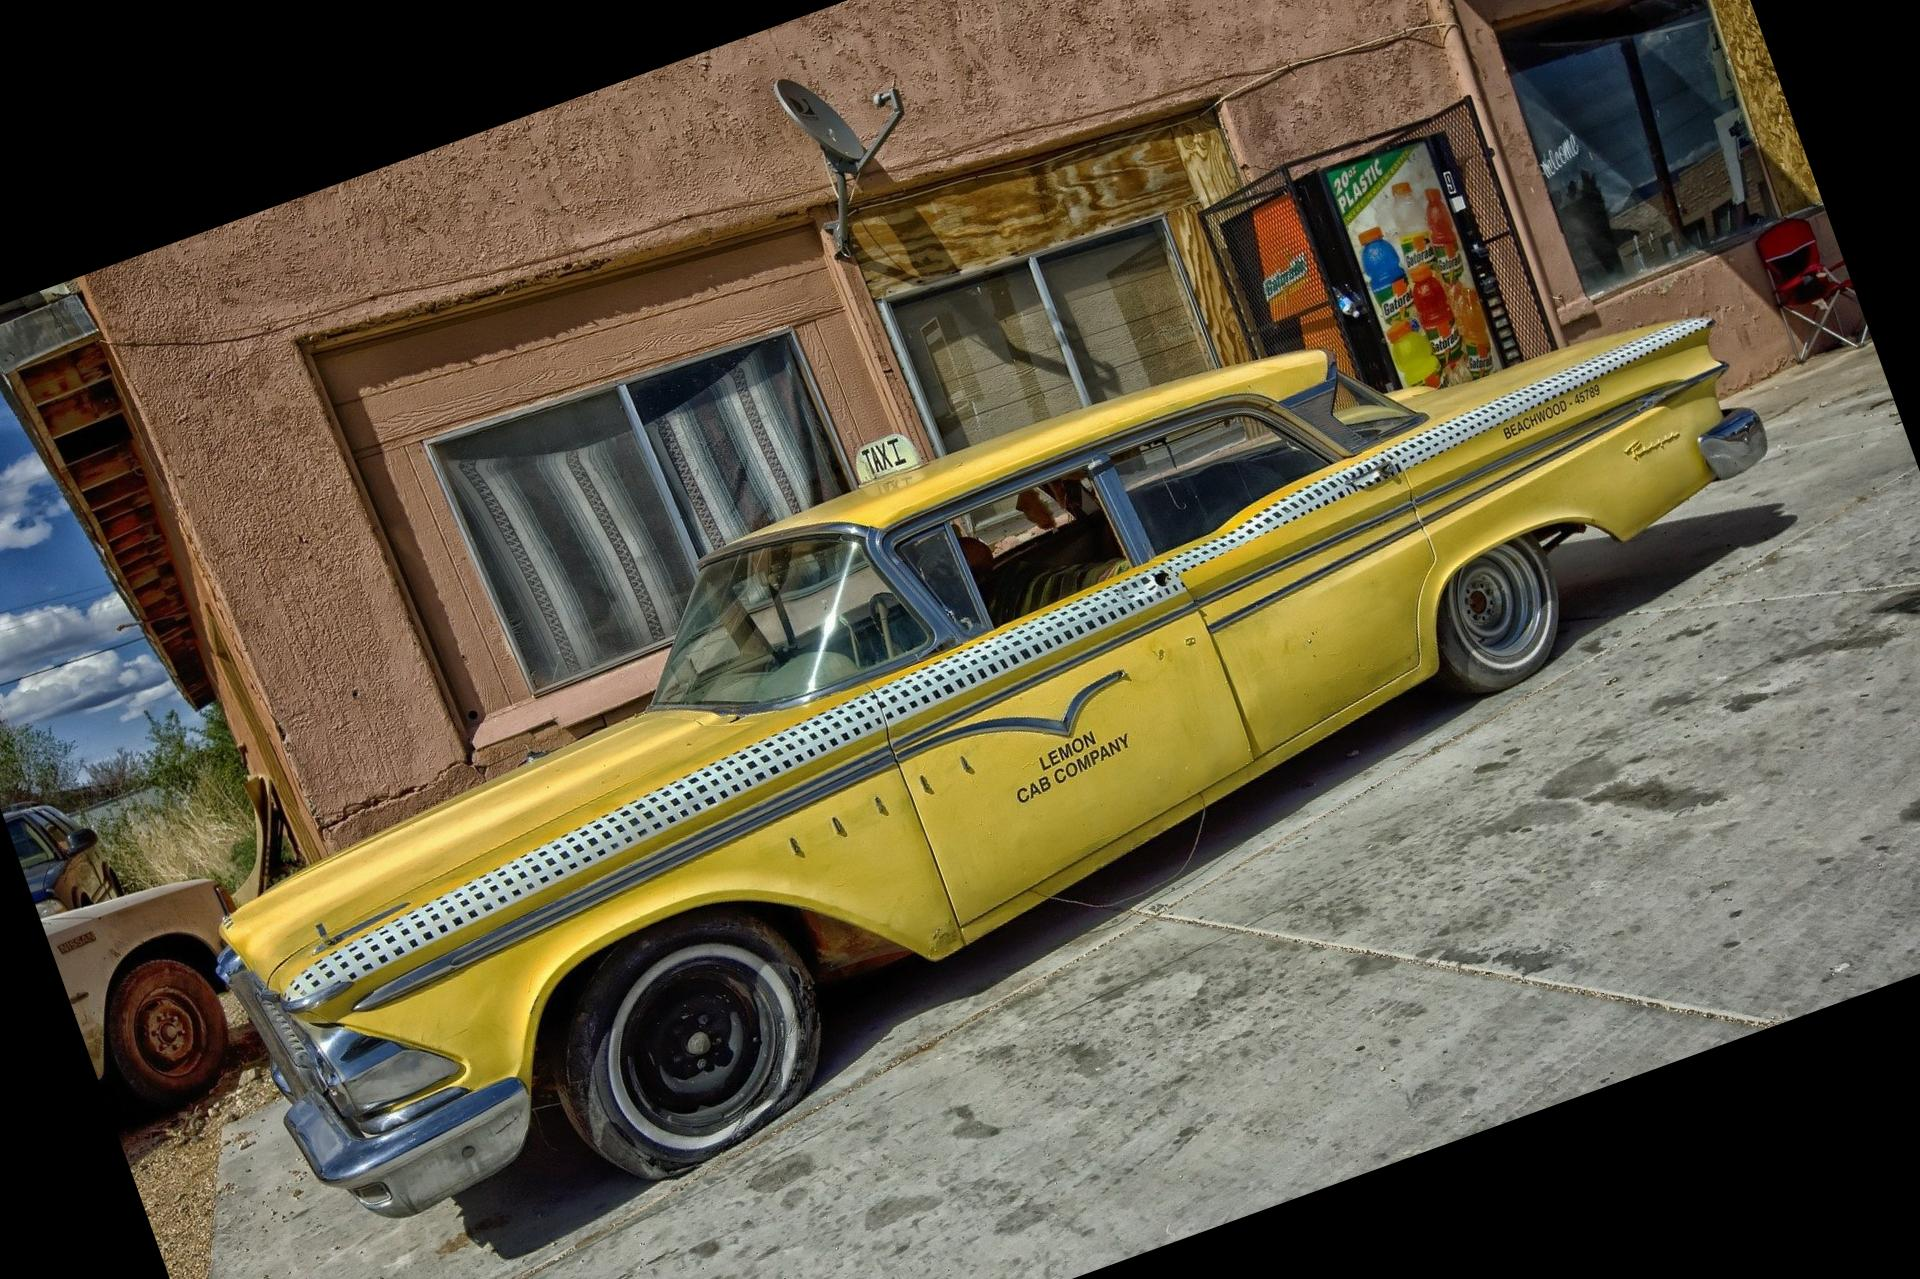taxi: (236, 305, 1784, 1223)
